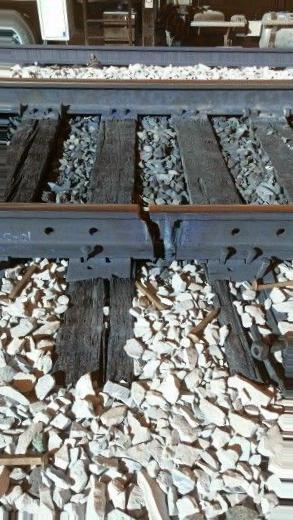tracks_fault: (112, 184, 227, 280)
